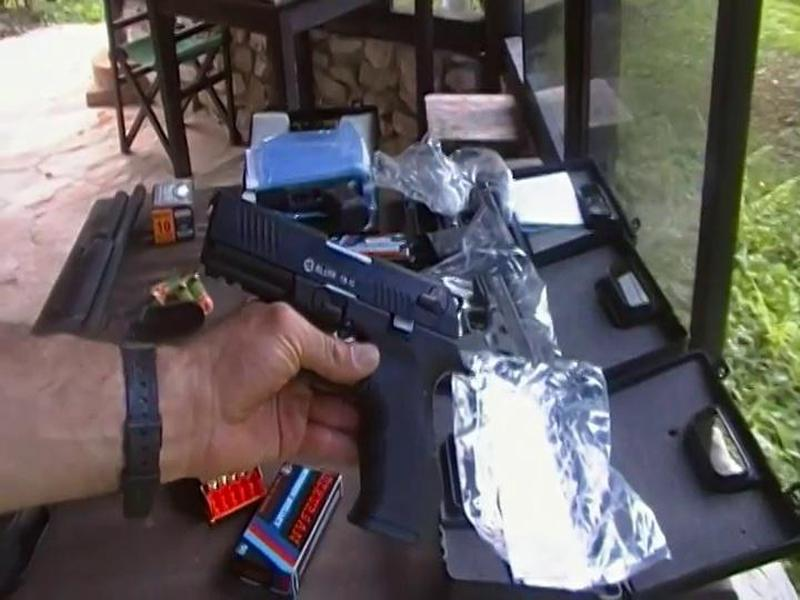Pistola: (207, 169, 479, 547)
